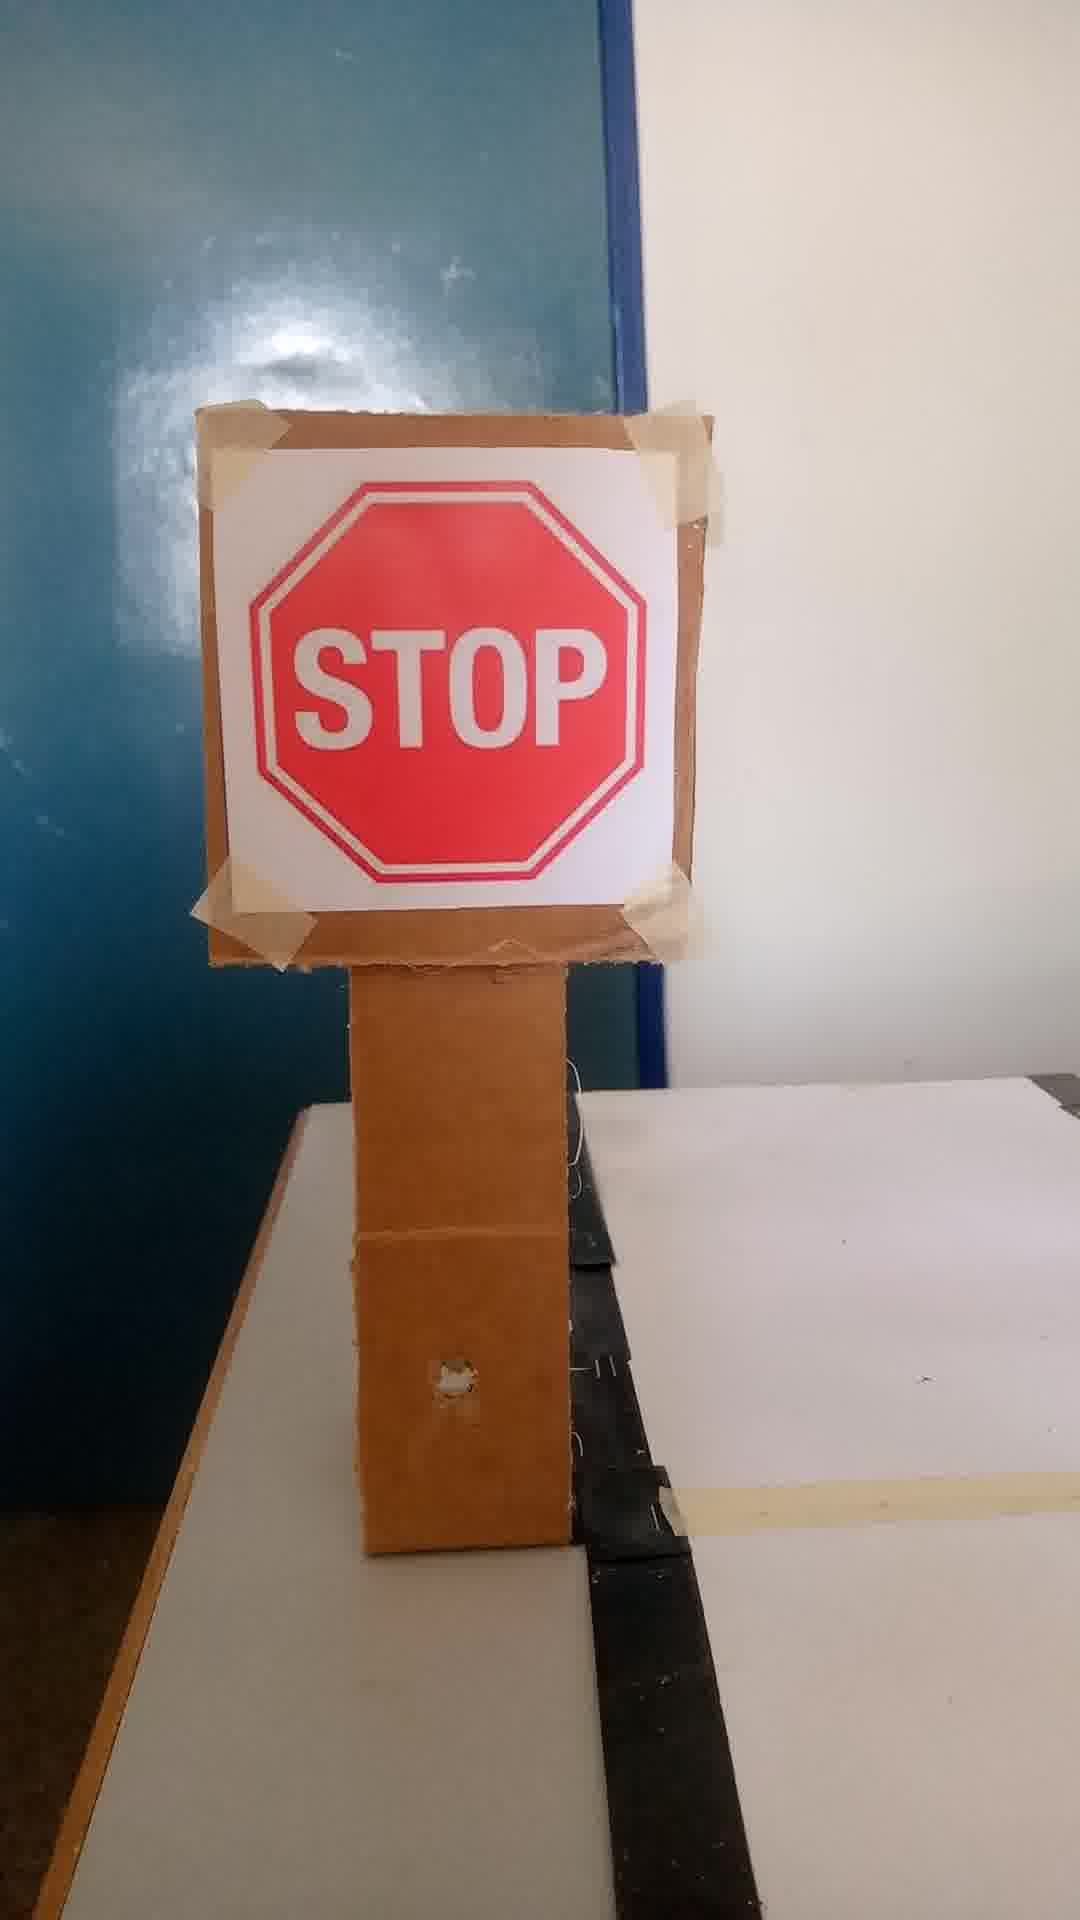panel101: (200, 434, 678, 916)
